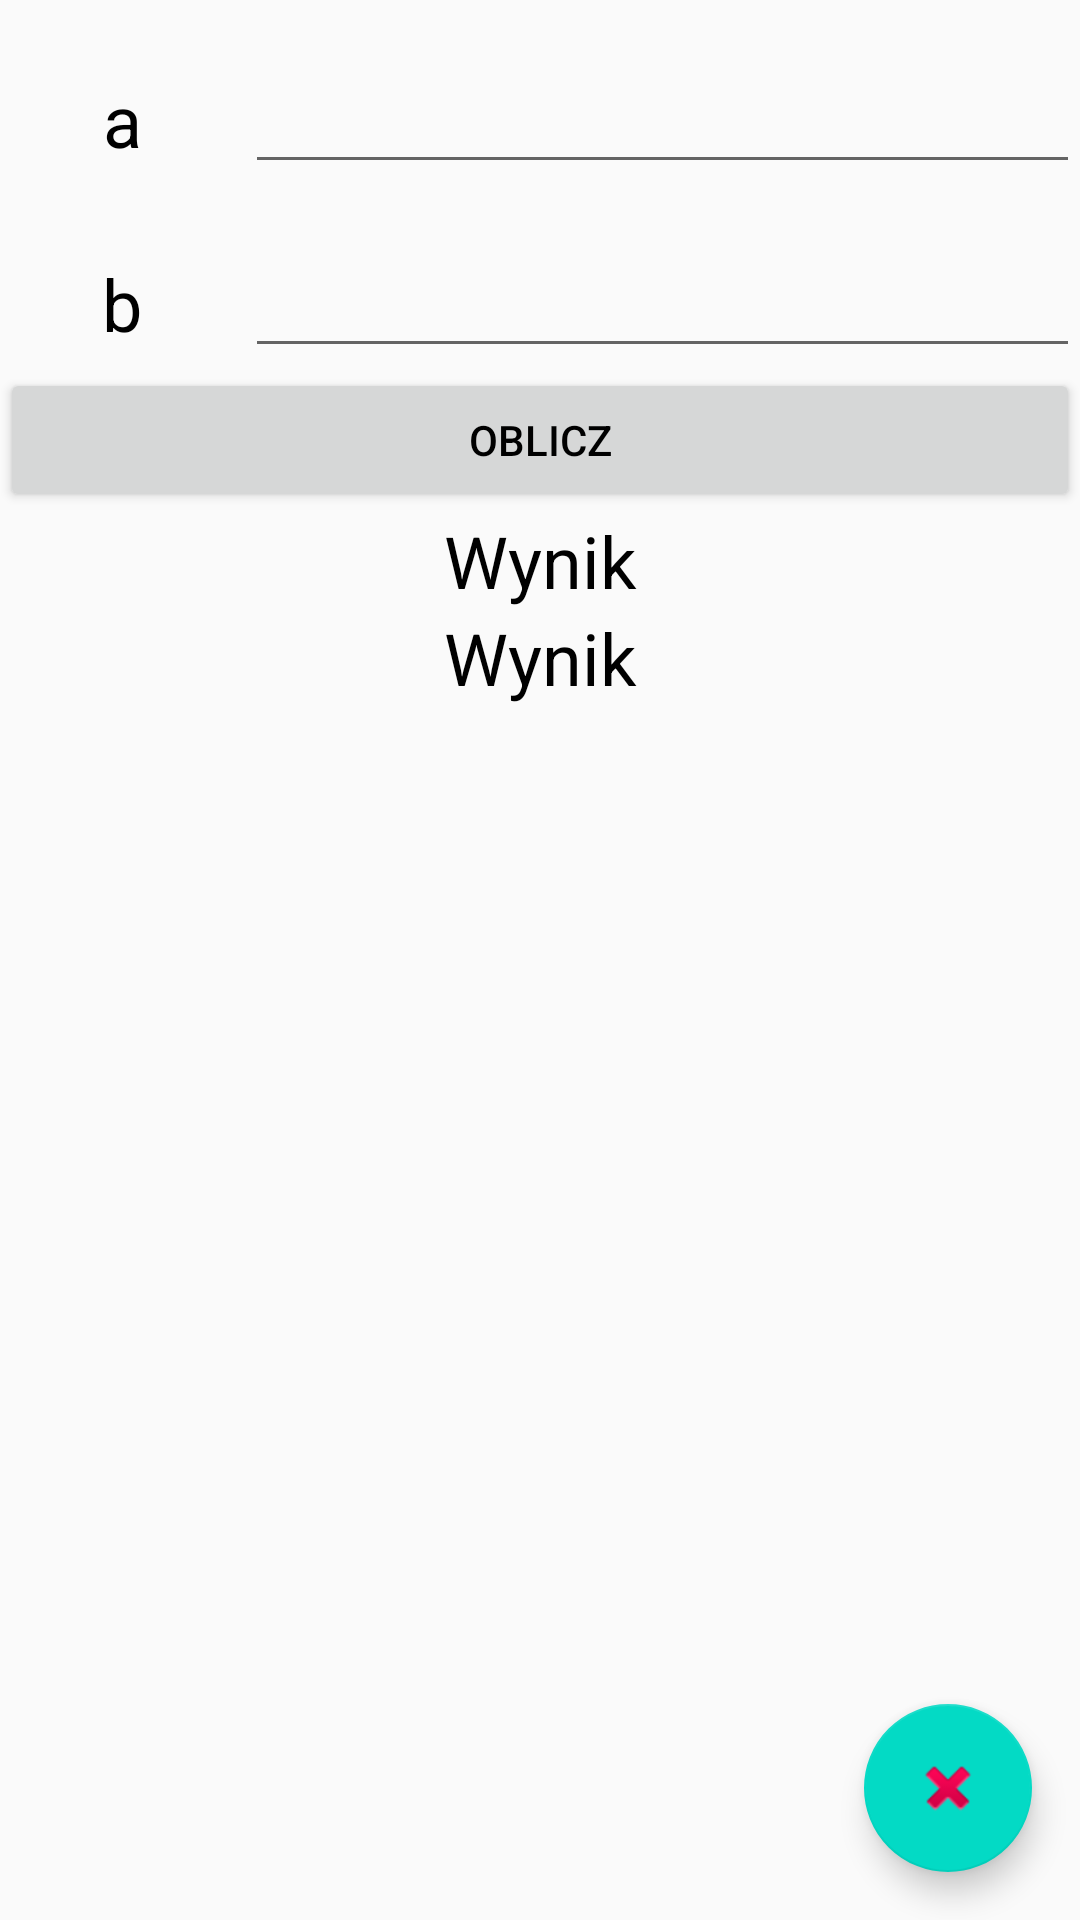

Where icons sit on this 1080px x 1920px app screen, as (x1, y1, x2, y2):
delete: (864, 1704, 1032, 1872)
